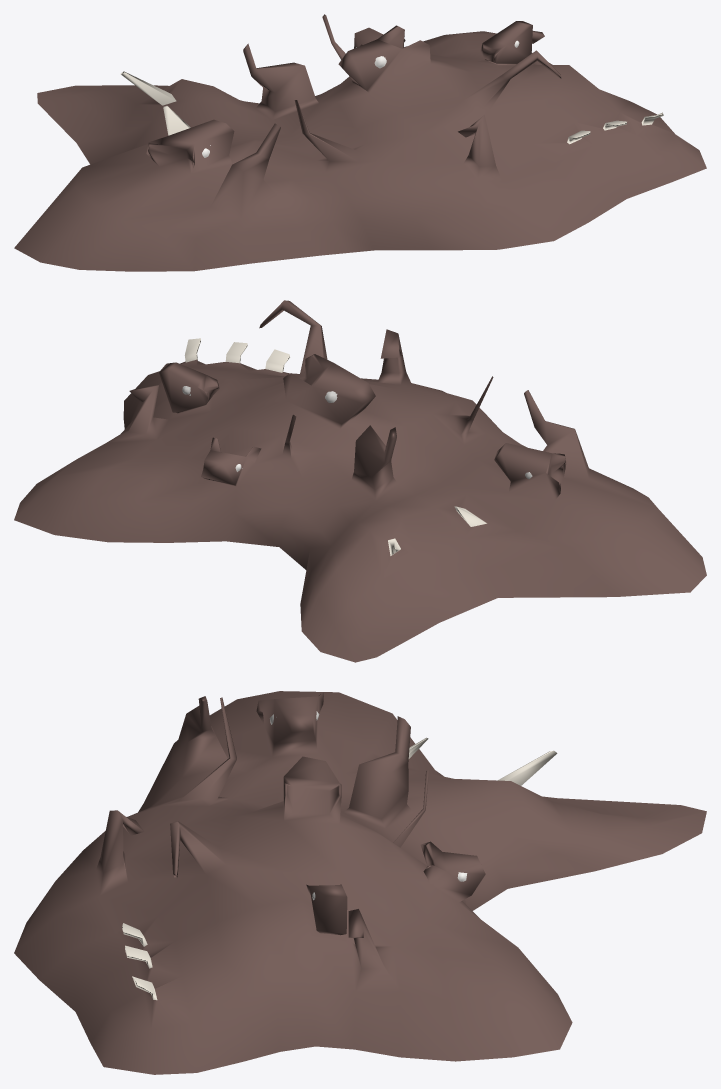
Rendered from Quokka_King_OLD.fbx.
3 renders of one model, top to bottom at view 1: azimuth 30°, elevation 25°; view 2: azimuth 150°, elevation 25°; view 3: azimuth 270°, elevation 25°, orthographic. The views are drawn at different scales.
Parts seen in each view (by area): view 1: Quokka_model; view 2: Quokka_model; view 3: Quokka_model.
Part boxes in pixels (bbox=[...]): Quokka_model: bbox=[14, 14, 706, 271]; Quokka_model: bbox=[14, 300, 706, 662]; Quokka_model: bbox=[14, 691, 706, 1074].
Bounding box in the file's own units: 2.52 × 0.5101 × 2.
